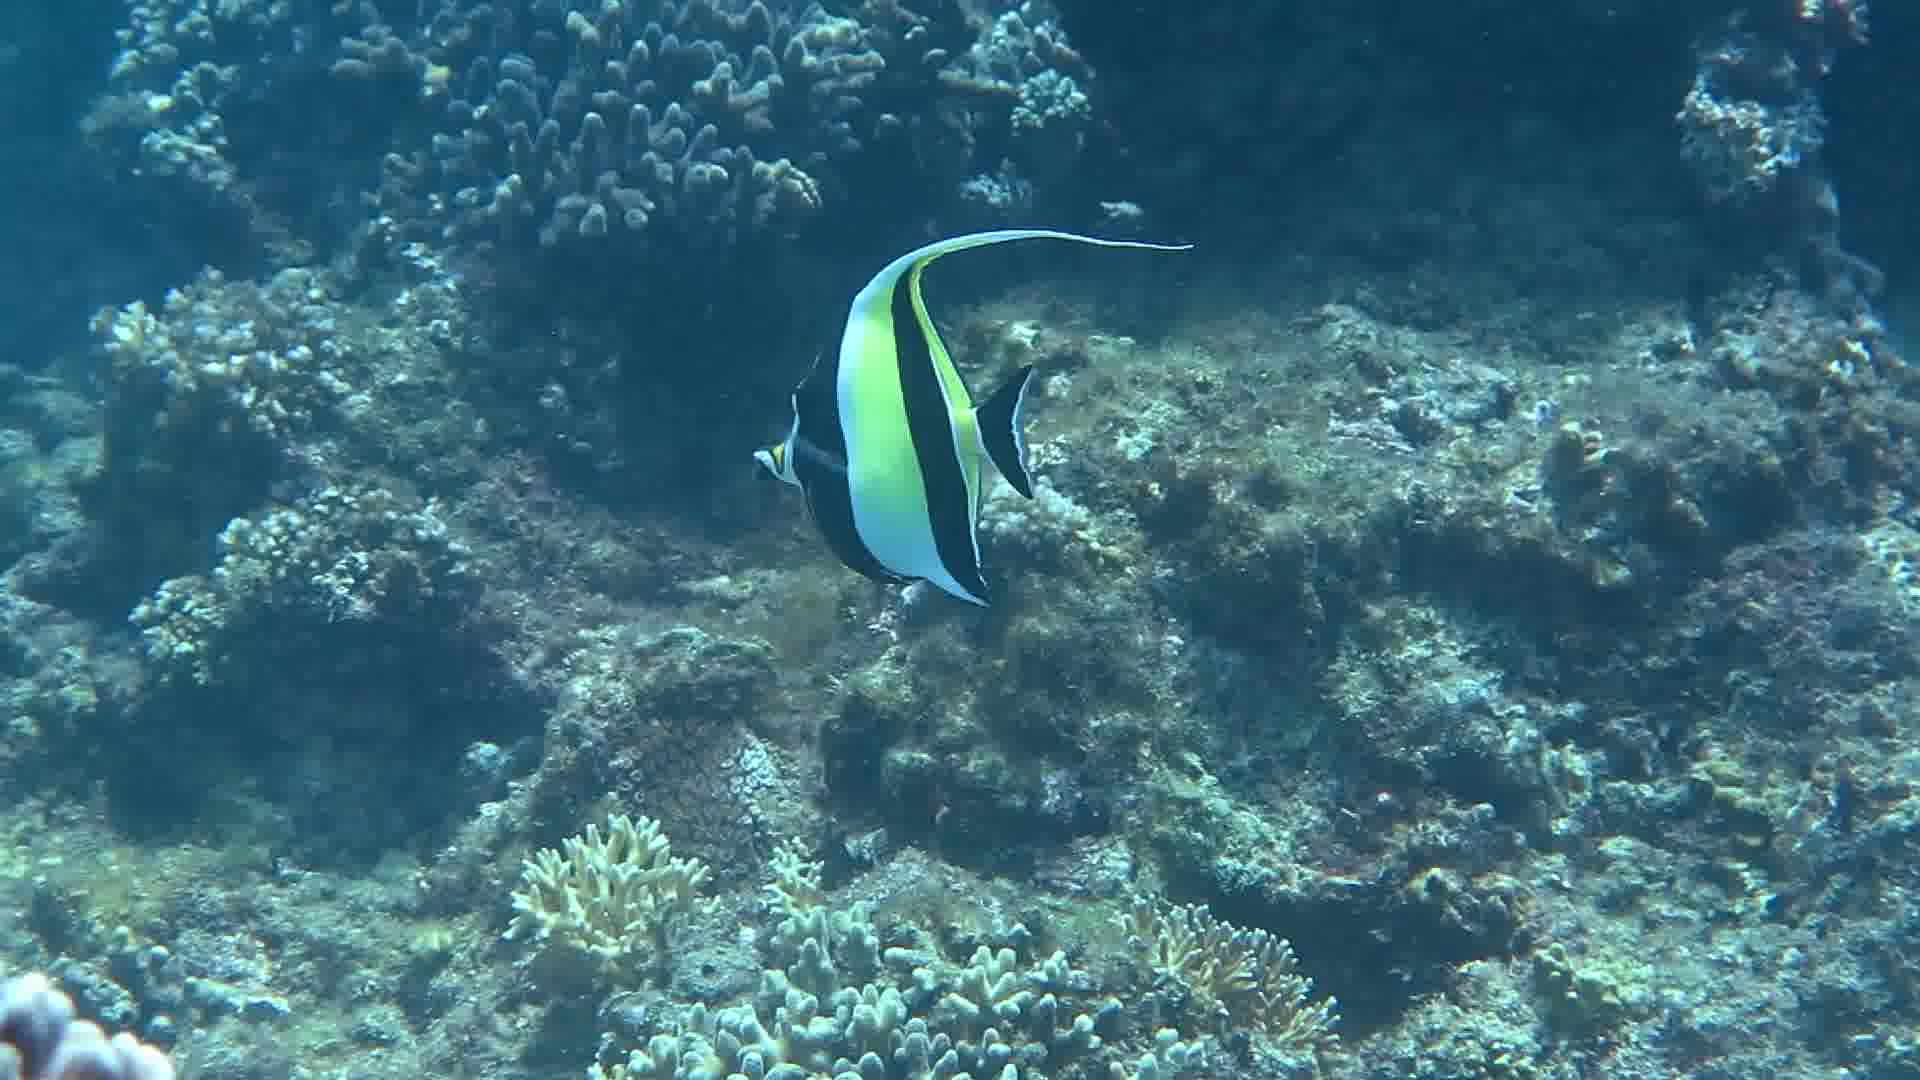Zanclus cornutus: (735, 198, 1075, 629)
